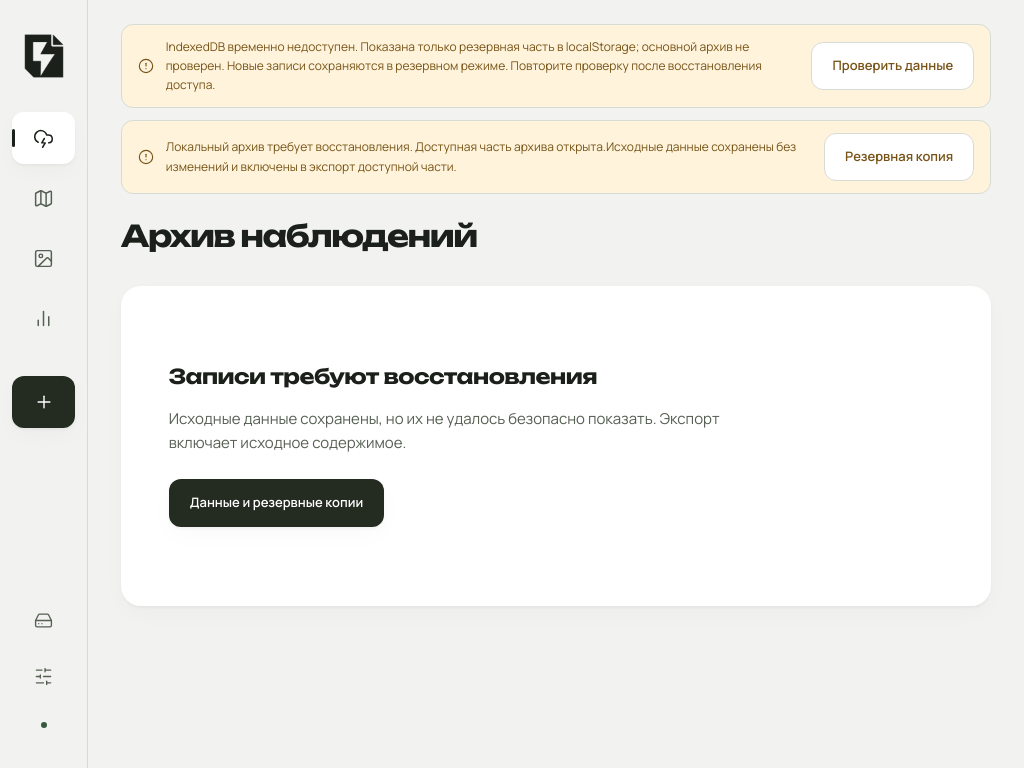
archive safety messages and import confirmation › explains unparseable local data and enables exporting the original text
This screenshot has width=1024, height=768.
Expected: the heading "Записи требуют восстановления" is shown, [169,364,597,391]
What coordinates should you click on to do the following:
click the button named "Данные и резервные копии"
I would click on:
 (44, 620)
Its box is [12,594,75,646].
(page scrolled)
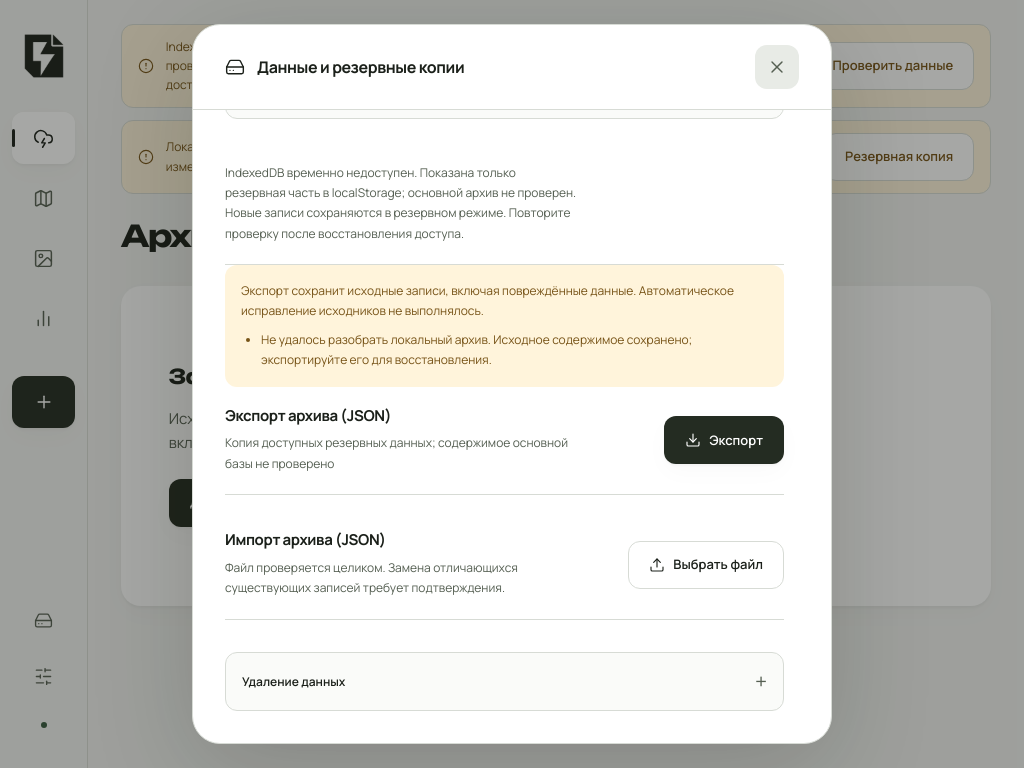
Now the list item "Не удалось разобрать локальный архив" is shown, box [261,331,692,368]
Now the button "Экспорт" is enabled, box [664,416,784,464]
